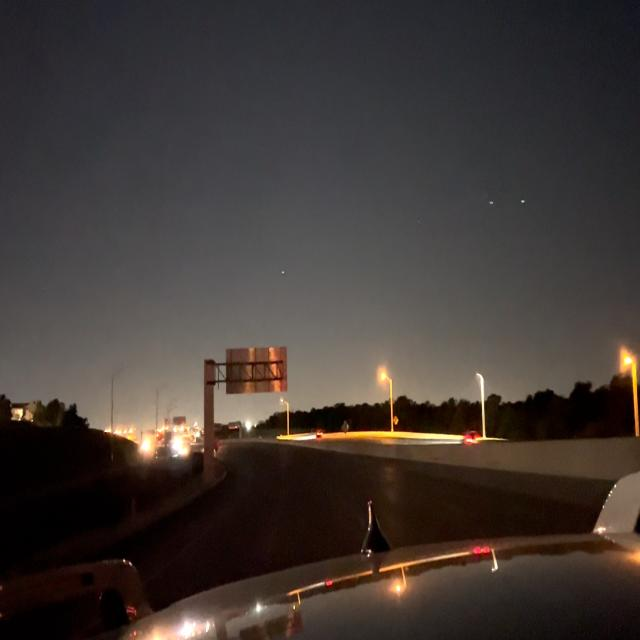back-of-sign: (226, 349, 288, 396)
